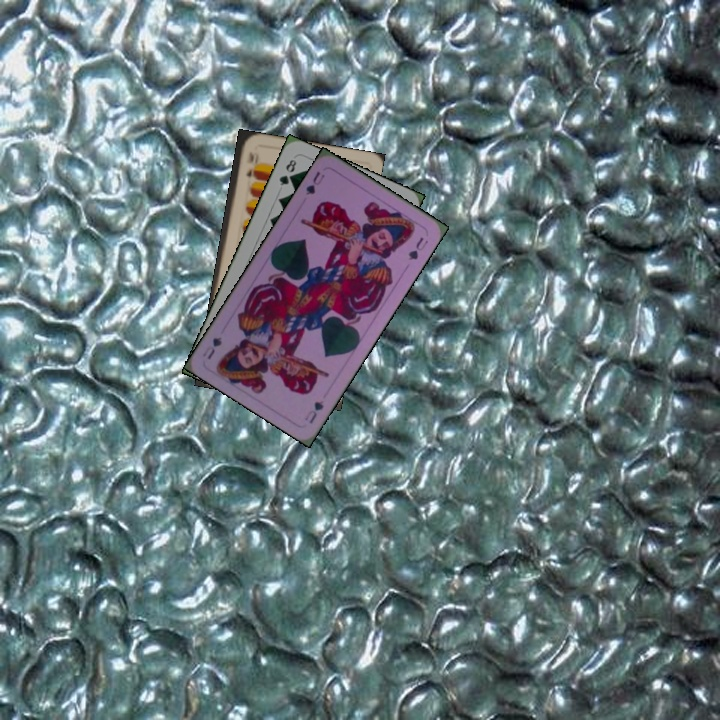E10: (242, 147, 257, 180)
G8: (275, 155, 299, 188)
GU: (301, 167, 327, 199), (300, 397, 326, 426)
